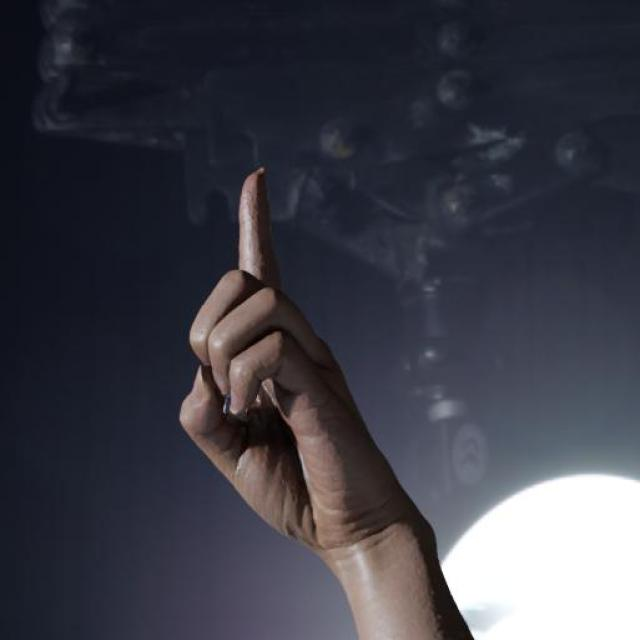D: (174, 161, 449, 564)
